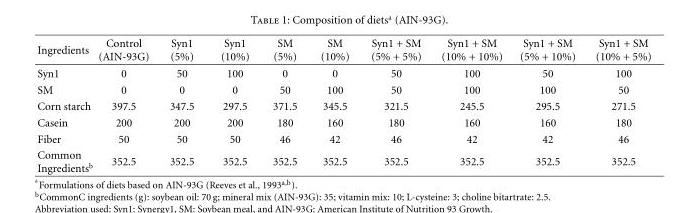table: (36, 36, 650, 173)
table column: (430, 36, 510, 173), (510, 36, 584, 173), (359, 36, 430, 173), (584, 36, 650, 173), (94, 36, 158, 173), (36, 36, 94, 173), (206, 36, 260, 173), (308, 36, 359, 173), (158, 36, 206, 173), (260, 36, 308, 173)
table column header: (36, 36, 650, 64)
table row: (36, 36, 650, 64), (36, 146, 650, 173), (36, 64, 650, 81), (36, 97, 650, 114), (36, 81, 650, 97), (36, 114, 650, 130), (36, 130, 650, 146)
